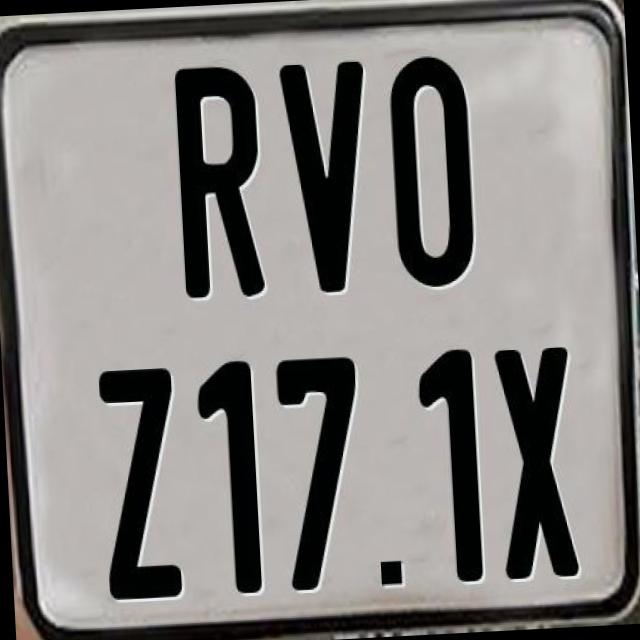0: (385, 52, 476, 294)
1: (191, 356, 261, 598), (415, 346, 483, 582)
7: (272, 352, 368, 586)
R: (175, 64, 267, 308)
V: (278, 56, 378, 294)
X: (492, 342, 586, 578)
Z: (97, 364, 182, 598)
